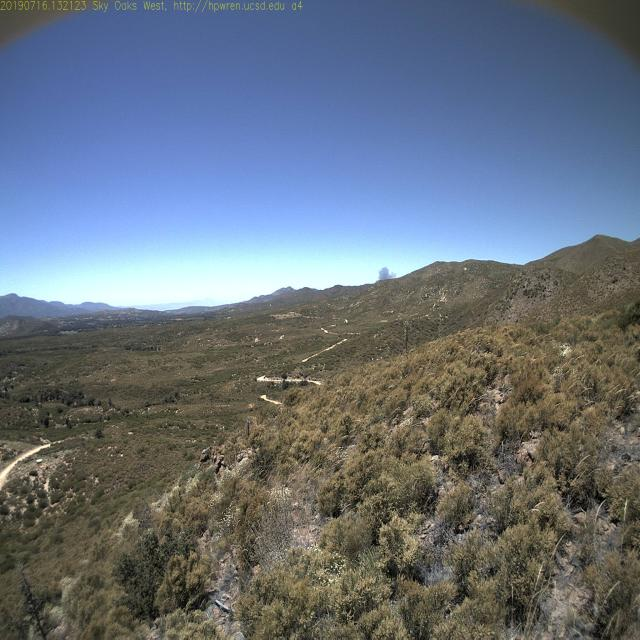smoke: (370, 253, 404, 292)
